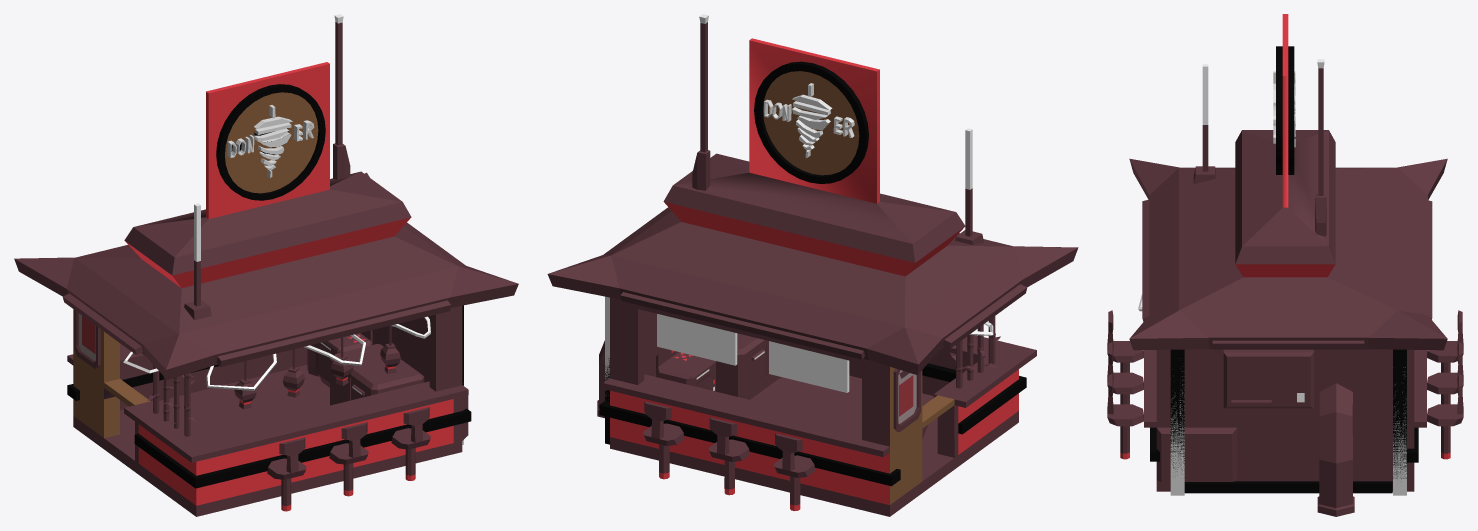
File: DonerkaLavka.fbx
3 renders of one model, left to right at view 1: azimuth 30°, elevation 25°; view 2: azimuth 150°, elevation 25°; view 3: azimuth 270°, elevation 25°, orthographic. The views are drawn at different scales.
Parts seen in each view (by area): view 1: scifi-food-stall, scifi-food-stall.002, scifi-food-stall.005, scifi-food-stall.001, Cube, scifi-food-stall.004, Cylinder.001, scifi-food-stall.003; view 2: scifi-food-stall, scifi-food-stall.002, Cube, scifi-food-stall.005, scifi-food-stall.001, scifi-food-stall.004, Cylinder.001, scifi-food-stall.003; view 3: scifi-food-stall, scifi-food-stall.002, Cube, scifi-food-stall.001, scifi-food-stall.004, Cube.005, Cube.002.
Part boxes in pixels (x1=…): scifi-food-stall: x1=14, y1=62, x2=518, y2=516; scifi-food-stall.002: x1=75, y1=217, x2=457, y2=334; scifi-food-stall.005: x1=225, y1=92, x2=318, y2=193; scifi-food-stall.001: x1=194, y1=14, x2=343, y2=306; Cube: x1=67, y1=305, x2=471, y2=488; scifi-food-stall.004: x1=63, y1=293, x2=450, y2=366; Cylinder.001: x1=227, y1=105, x2=314, y2=178; scifi-food-stall.003: x1=147, y1=365, x2=195, y2=436; scifi-food-stall: x1=547, y1=38, x2=1078, y2=516; scifi-food-stall.002: x1=611, y1=202, x2=1014, y2=326; Cube: x1=599, y1=314, x2=1026, y2=486; scifi-food-stall.005: x1=763, y1=71, x2=859, y2=175; scifi-food-stall.001: x1=699, y1=14, x2=972, y2=236; scifi-food-stall.004: x1=620, y1=284, x2=1027, y2=359; Cylinder.001: x1=764, y1=83, x2=854, y2=157; scifi-food-stall.003: x1=950, y1=316, x2=1000, y2=388; scifi-food-stall: x1=1107, y1=14, x2=1463, y2=516; scifi-food-stall.002: x1=1179, y1=167, x2=1397, y2=310; Cube: x1=1150, y1=349, x2=1418, y2=493; scifi-food-stall.001: x1=1202, y1=46, x2=1324, y2=195; scifi-food-stall.004: x1=1142, y1=199, x2=1432, y2=349; Cube.005: x1=1170, y1=371, x2=1184, y2=495; Cube.002: x1=1393, y1=367, x2=1406, y2=495.
Bounding box in the file's own units: 674 × 700 × 554.
